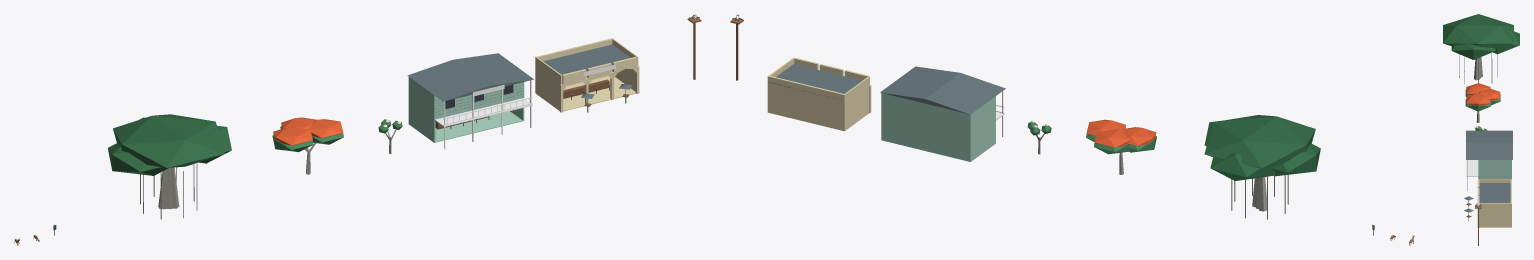
File: keys-identity.glb
3 renders of one model, left to right at view 1: azimuth 30°, elevation 25°; view 2: azimuth 150°, elevation 25°; view 3: azimuth 270°, elevation 25°, orthographic. The views are drawn at different scales.
Parts seen in each view (by area): view 1: duval_open_bar_a_body, keys_banyan_body, duval_open_bar_b_body, keys_poinciana_body; view 2: duval_open_bar_a_body, keys_banyan_body, duval_open_bar_b_body, keys_poinciana_body; view 3: keys_banyan_body, duval_open_bar_a_body, duval_open_bar_b_body, keys_poinciana_body, keys_osprey_post_body.
Part boxes in pixels (x1,y1,x2,y2): duval_open_bar_a_body: [407, 53, 533, 148]; keys_banyan_body: [108, 114, 231, 219]; duval_open_bar_b_body: [535, 38, 639, 112]; keys_poinciana_body: [272, 117, 343, 174]; duval_open_bar_a_body: [880, 66, 1005, 161]; keys_banyan_body: [1204, 115, 1320, 219]; duval_open_bar_b_body: [767, 57, 871, 131]; keys_poinciana_body: [1086, 119, 1156, 174]; keys_banyan_body: [1443, 14, 1519, 83]; duval_open_bar_a_body: [1466, 130, 1512, 190]; duval_open_bar_b_body: [1464, 179, 1511, 227]; keys_poinciana_body: [1465, 83, 1500, 122]; keys_osprey_post_body: [1475, 202, 1481, 245].
Size of the model in its own units: 108 by 12.04 by 16.08.
